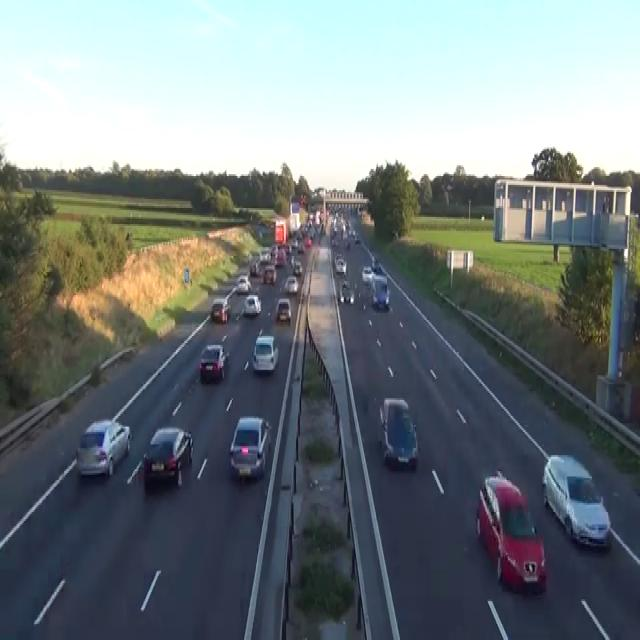Car: (475, 469, 546, 594), (541, 454, 611, 550), (75, 418, 131, 476), (143, 427, 193, 487), (378, 396, 418, 469), (229, 414, 271, 480), (199, 343, 229, 382), (251, 334, 278, 374), (379, 396, 409, 432), (371, 276, 390, 310), (210, 298, 230, 324), (275, 297, 291, 322), (243, 293, 261, 315), (339, 279, 354, 304), (235, 274, 251, 293), (283, 276, 298, 294), (263, 265, 276, 284), (274, 249, 286, 267), (361, 265, 372, 283), (259, 247, 270, 263), (335, 258, 346, 274), (371, 256, 381, 272), (249, 262, 260, 276), (293, 260, 302, 276), (270, 244, 278, 256), (341, 277, 349, 288), (335, 253, 343, 263), (304, 237, 312, 246), (297, 242, 304, 252), (331, 237, 338, 247), (354, 231, 360, 242), (344, 238, 350, 249), (291, 238, 298, 247), (300, 194, 306, 204), (269, 220, 275, 230), (290, 254, 295, 265)
